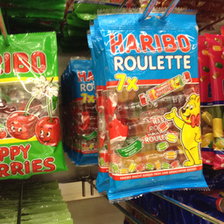candy: (95, 14, 216, 211), (1, 29, 57, 178)
